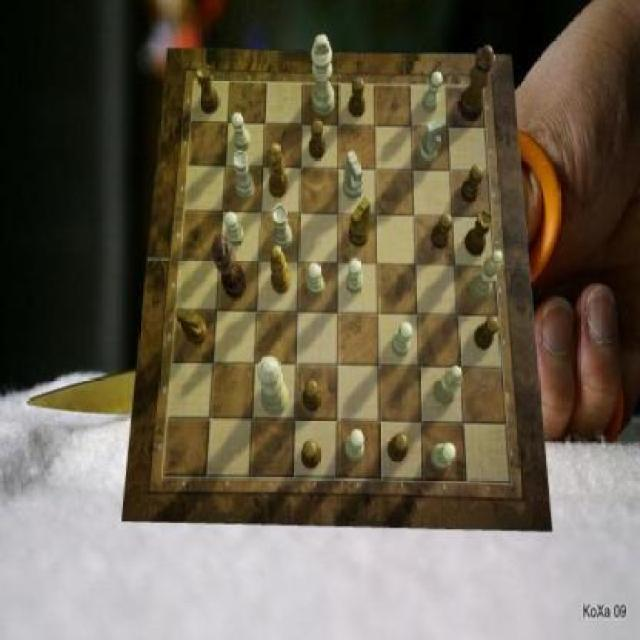bishop: (270, 247, 292, 296), (270, 143, 288, 199)
black-bishop: (211, 232, 246, 298)
black-king: (177, 306, 209, 344), (349, 197, 372, 246)
black-knight: (474, 315, 498, 350), (462, 165, 484, 202), (431, 214, 453, 250), (349, 77, 366, 118), (310, 120, 326, 162), (303, 378, 322, 412), (302, 440, 322, 469), (388, 434, 408, 463)
black-pawn: (459, 45, 496, 122)
black-queen: (466, 211, 494, 257), (196, 63, 220, 114)
black-rook: (470, 251, 502, 300), (434, 366, 461, 406)
white-bishop: (310, 34, 334, 116)
white-king: (419, 117, 446, 165), (343, 151, 364, 200)
white-knight: (423, 71, 443, 112), (232, 112, 252, 151), (392, 322, 412, 356), (226, 211, 246, 245), (432, 443, 457, 469), (346, 431, 366, 463), (346, 259, 364, 293), (308, 262, 325, 296)
white-pawn: (257, 357, 289, 417)
white-queen: (233, 151, 254, 200), (274, 205, 294, 250)
